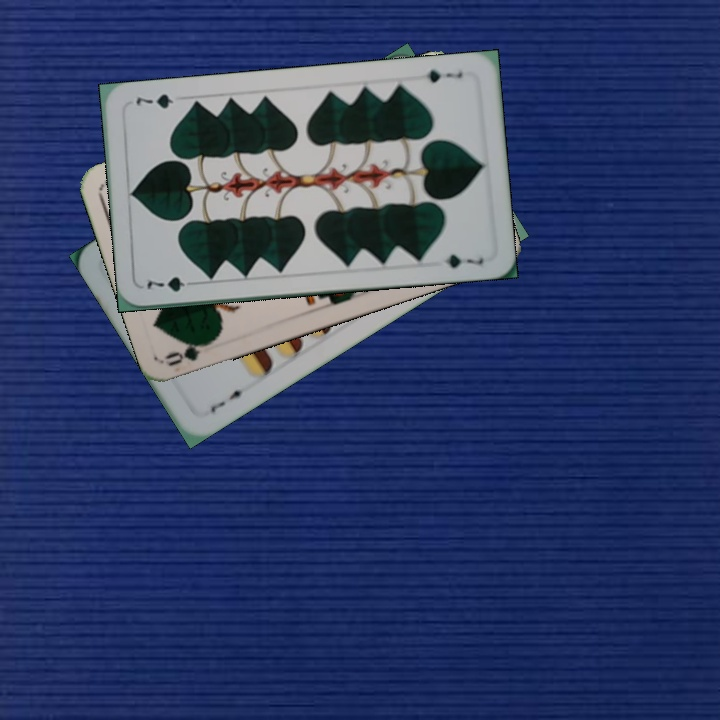E7: (206, 384, 251, 415)
G7: (143, 272, 201, 295), (422, 65, 465, 85)
GO: (162, 332, 219, 368)
